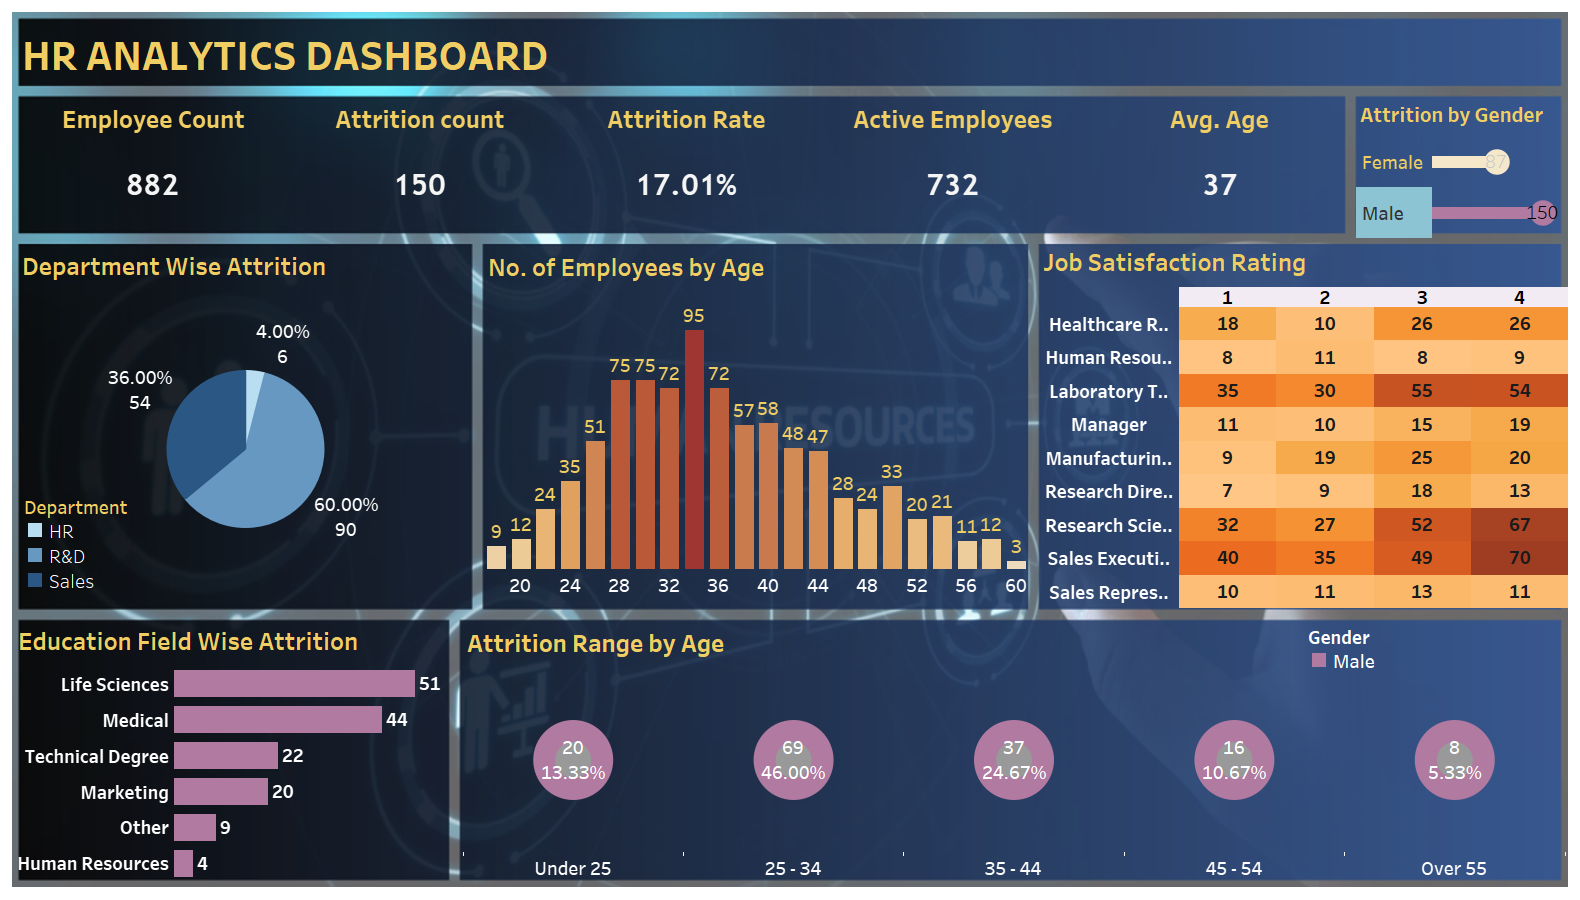

This screenshot's page, from the dashboard's own definition file:
{"tool":"tableau","page":{"name":"HR ANalytics dashboard","canvas":[1580,900],"ordinal":0},"visuals":[{"type":"image","param":"Image/HR background.pptx.png","box":[8,8,1564,884]},{"type":"text","box":[18,12,899,84]},{"type":"worksheet","title":"Attrition By Gender","mark":"Automatic","rows":["Gender"],"cols":["Calculation_1361775992679575553","Calculation_1361775992679575553"],"box":[1356,94,206,144]},{"type":"worksheet","title":"KPI","mark":"Automatic","box":[20,95,1333,140]},{"type":"worksheet","title":"Job Satisfactin","mark":"Square","rows":["Job Role"],"cols":["Job Satisfaction"],"box":[1039,239,529,369]},{"type":"worksheet","title":"Department wise Attrition","mark":"Pie","box":[18,243,455,364]},{"type":"worksheet","title":"number of Employee by agegroup","mark":"Automatic","rows":["Employee Count"],"cols":["Age (bin)"],"box":[484,244,545,366]},{"type":"legend","title":"Department wise Attrition","param":"[federated.0qlyg200at52zy1gh4psp1nz1kom].[none:Department:nk]","box":[23,492,118,115]},{"type":"worksheet","title":"Education Field Wise Attrition","mark":"Automatic","rows":["Education Field"],"cols":["Calculation_1361775992679575553"],"box":[14,618,443,263]},{"type":"worksheet","title":"Attrition range by gender","mark":"Pie","rows":["Calculation_1361775992731549703","Calculation_1361775992731549703"],"cols":["CF_age band"],"box":[463,620,1102,263]},{"type":"legend","title":"Attrition range by gender","param":"[federated.0qlyg200at52zy1gh4psp1nz1kom].[none:Gender:nk]","box":[1307,622,254,62]}]}

Visuals, with their boxes in screenshot pixels (x1, y1, x2, y2), scaled from the page's 1580x900 canvas onto the 1580x900 screenshot:
image: {"left": 8, "top": 8, "right": 1572, "bottom": 892}
text: {"left": 18, "top": 12, "right": 917, "bottom": 96}
"Attrition By Gender" worksheet: {"left": 1356, "top": 94, "right": 1562, "bottom": 238}
"KPI" worksheet: {"left": 20, "top": 95, "right": 1353, "bottom": 235}
"Job Satisfactin" worksheet (Square marks): {"left": 1039, "top": 239, "right": 1568, "bottom": 608}
"Department wise Attrition" worksheet (Pie marks): {"left": 18, "top": 243, "right": 473, "bottom": 607}
"number of Employee by agegroup" worksheet: {"left": 484, "top": 244, "right": 1029, "bottom": 610}
"Department wise Attrition" legend: {"left": 23, "top": 492, "right": 141, "bottom": 607}
"Education Field Wise Attrition" worksheet: {"left": 14, "top": 618, "right": 457, "bottom": 881}
"Attrition range by gender" worksheet (Pie marks): {"left": 463, "top": 620, "right": 1565, "bottom": 883}
"Attrition range by gender" legend: {"left": 1307, "top": 622, "right": 1561, "bottom": 684}
